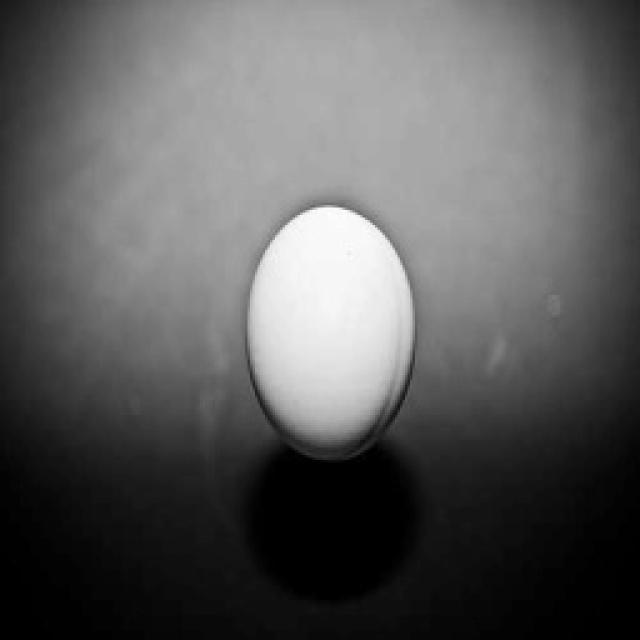ping-pong-ball: (244, 198, 418, 467)
